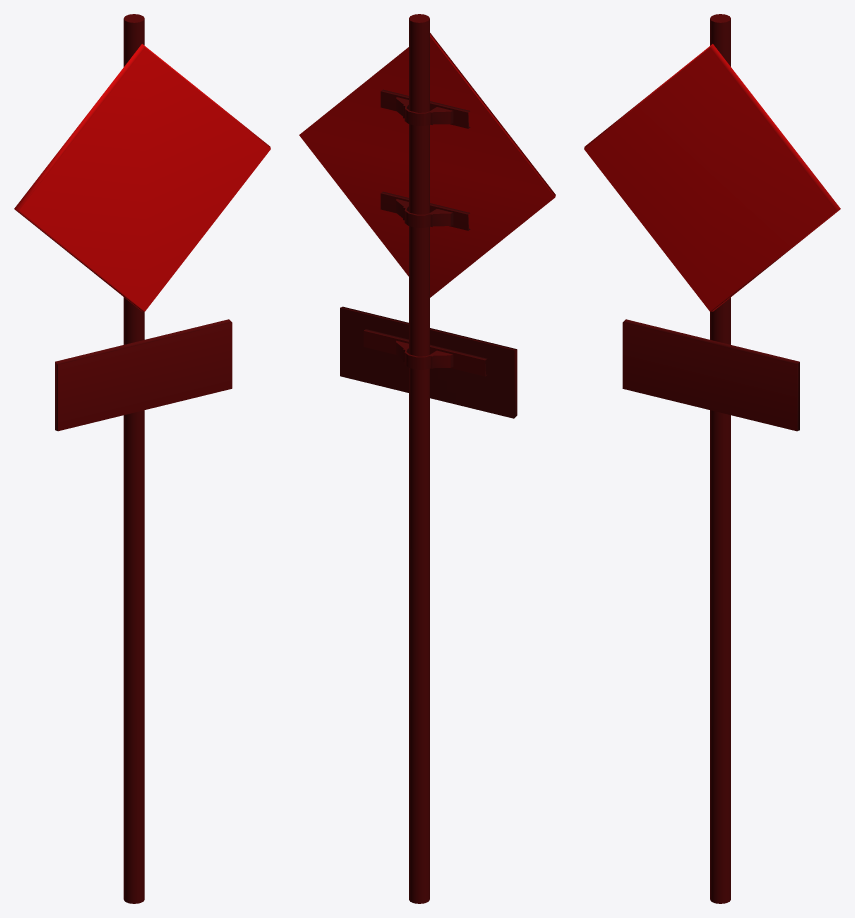
The model's file is Roadsign004.glb.
3 views of the same model, side by side, from view 1: azimuth 30°, elevation 25°; view 2: azimuth 150°, elevation 25°; view 3: azimuth 330°, elevation 25° (orthographic).
Visible parts, largest first — view 1: Roadsign004; view 2: Roadsign004; view 3: Roadsign004.
Part boxes in pixels (<box>): Roadsign004: <box>14,14,270,903</box>; Roadsign004: <box>299,14,555,903</box>; Roadsign004: <box>584,14,840,903</box>.
Bounding box in the file's own units: 3.91 × 12.83 × 0.4534.
